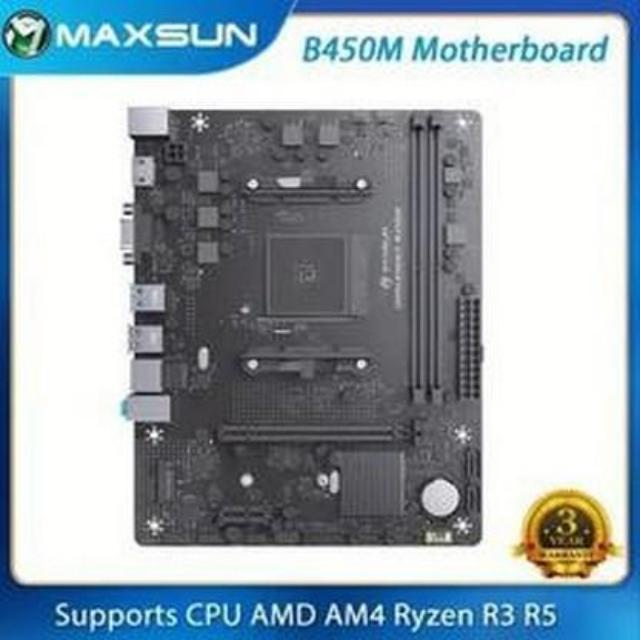Mainboard: (110, 98, 496, 560)
